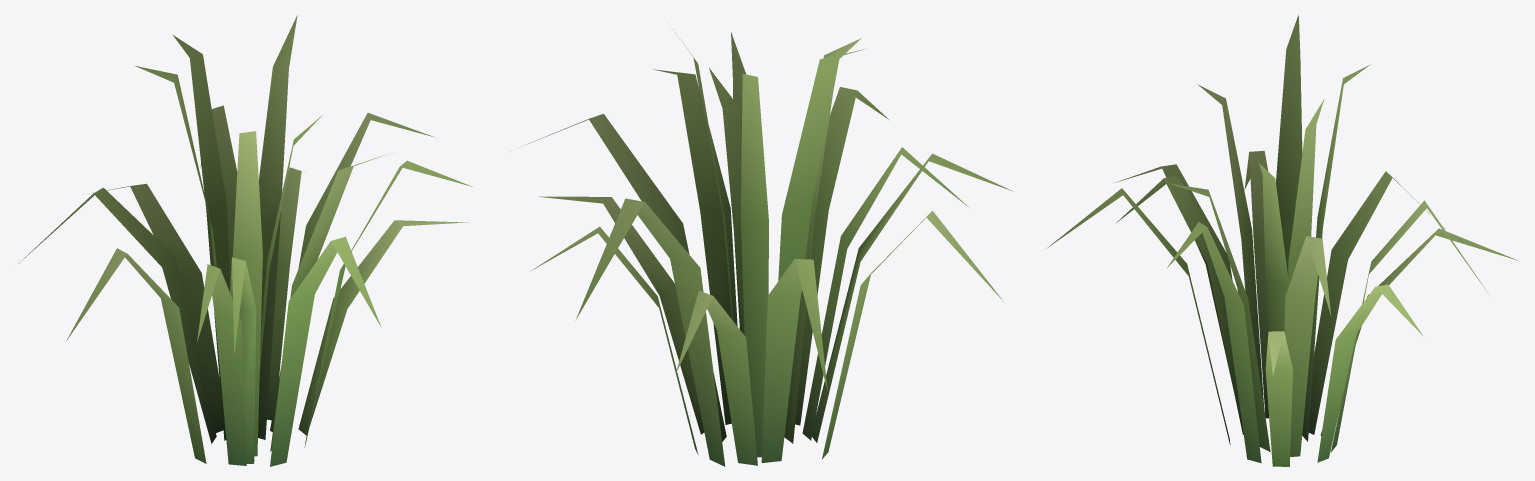
File: deco-grass-low.glb
The picture shows the model from 3 angles, left to right: view 1: azimuth 30°, elevation 25°; view 2: azimuth 150°, elevation 25°; view 3: azimuth 270°, elevation 25°; orthographic projection. The views are drawn at different scales.
Parts seen in each view (by area): view 1: 0_grass; view 2: 0_grass; view 3: 0_grass.
Part boxes in pixels (x1=…): 0_grass: x1=18, y1=15, x2=472, y2=466; 0_grass: x1=511, y1=29, x2=1013, y2=466; 0_grass: x1=1046, y1=15, x2=1518, y2=466.
Size of the model in its own units: 0.7219 by 0.6574 by 0.7496.
